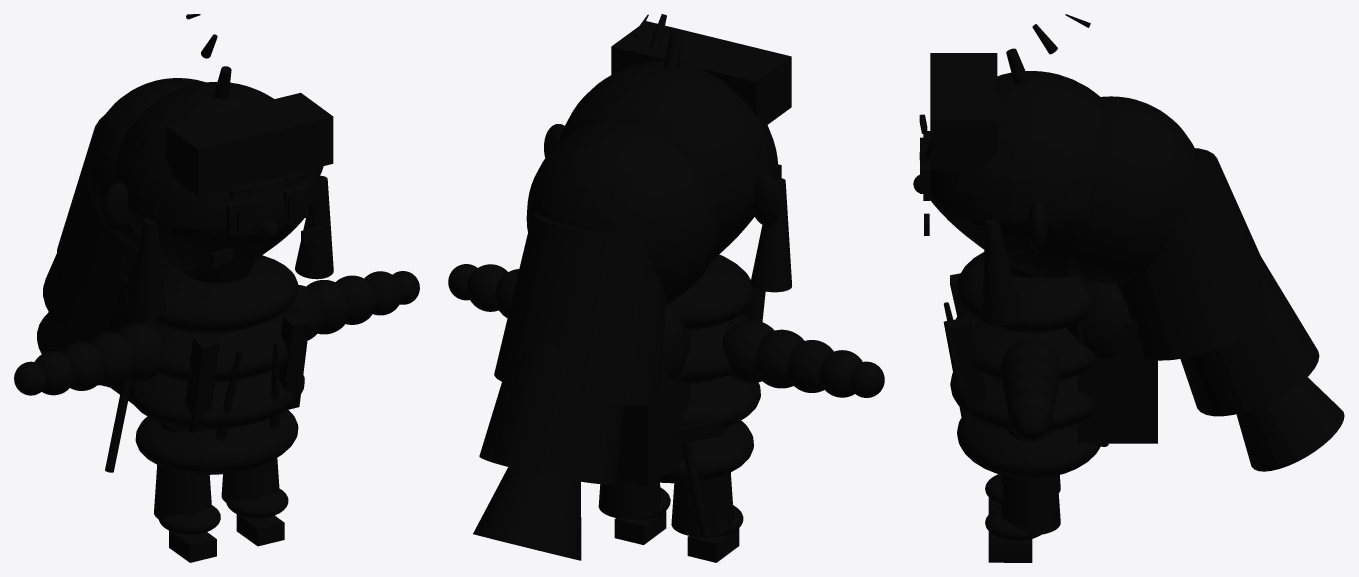
File: Player.gltf
3 renders of one model, left to right at view 1: azimuth 30°, elevation 25°; view 2: azimuth 150°, elevation 25°; view 3: azimuth 270°, elevation 25°, orthographic. The views are drawn at different scales.
Parts seen in each view (by area): view 1: PlayerModel; view 2: PlayerModel; view 3: PlayerModel.
Part boxes in pixels (x1=…): PlayerModel: x1=14, y1=14, x2=419, y2=562; PlayerModel: x1=448, y1=14, x2=884, y2=562; PlayerModel: x1=913, y1=14, x2=1344, y2=562.
Bounding box in the file's own units: 0.712 × 0.865 × 0.6436.
1 material, 1 textured.
